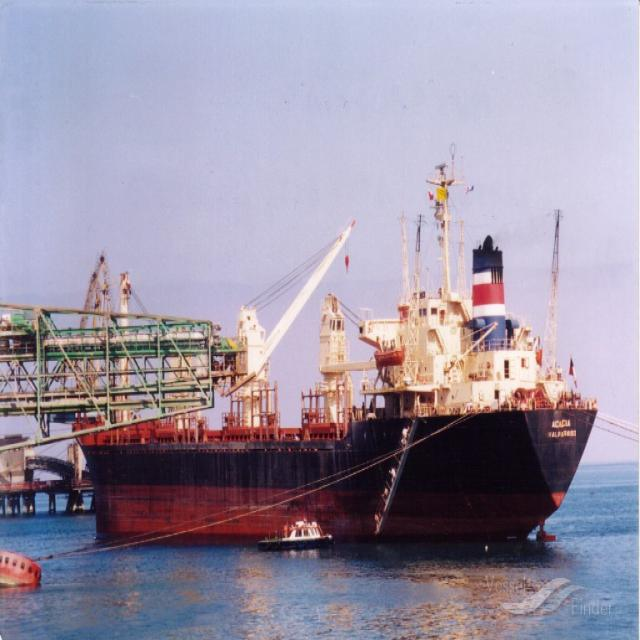OCR: (544, 412, 576, 444)
